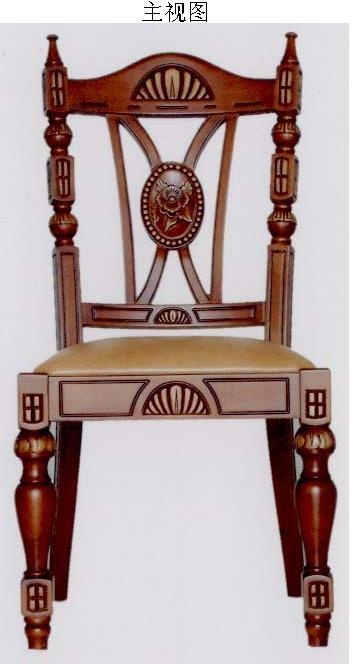obstacle: (15, 33, 335, 648)
